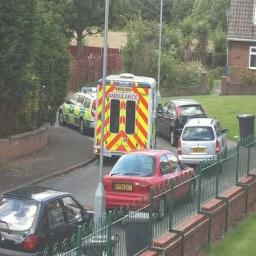ambulance: (94, 73, 156, 156)
